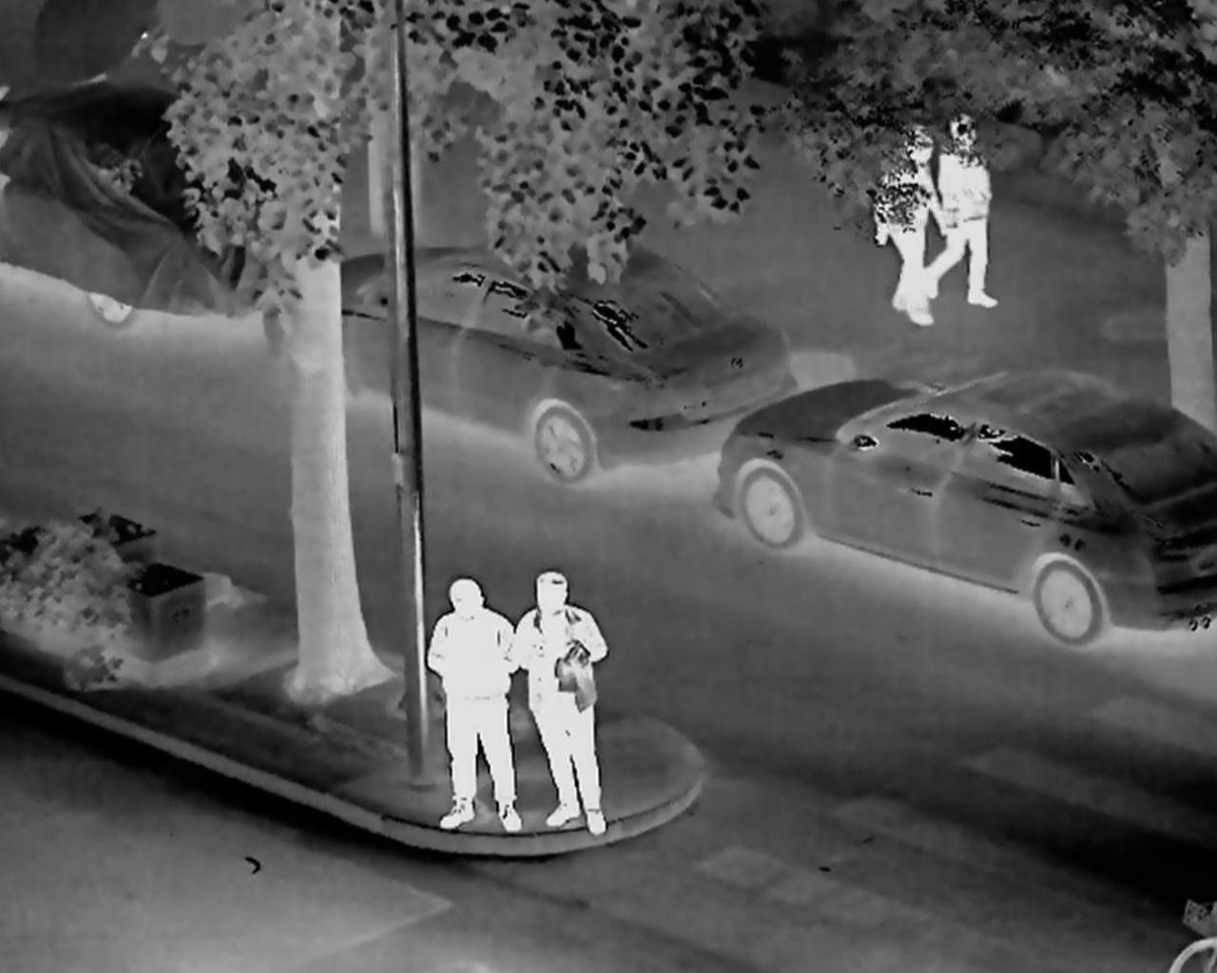person: (414, 565, 538, 842), (503, 567, 624, 831), (922, 103, 1009, 316), (868, 124, 943, 330)
